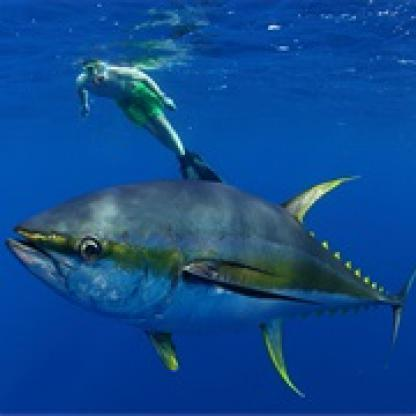tuna: (1, 165, 413, 401)
